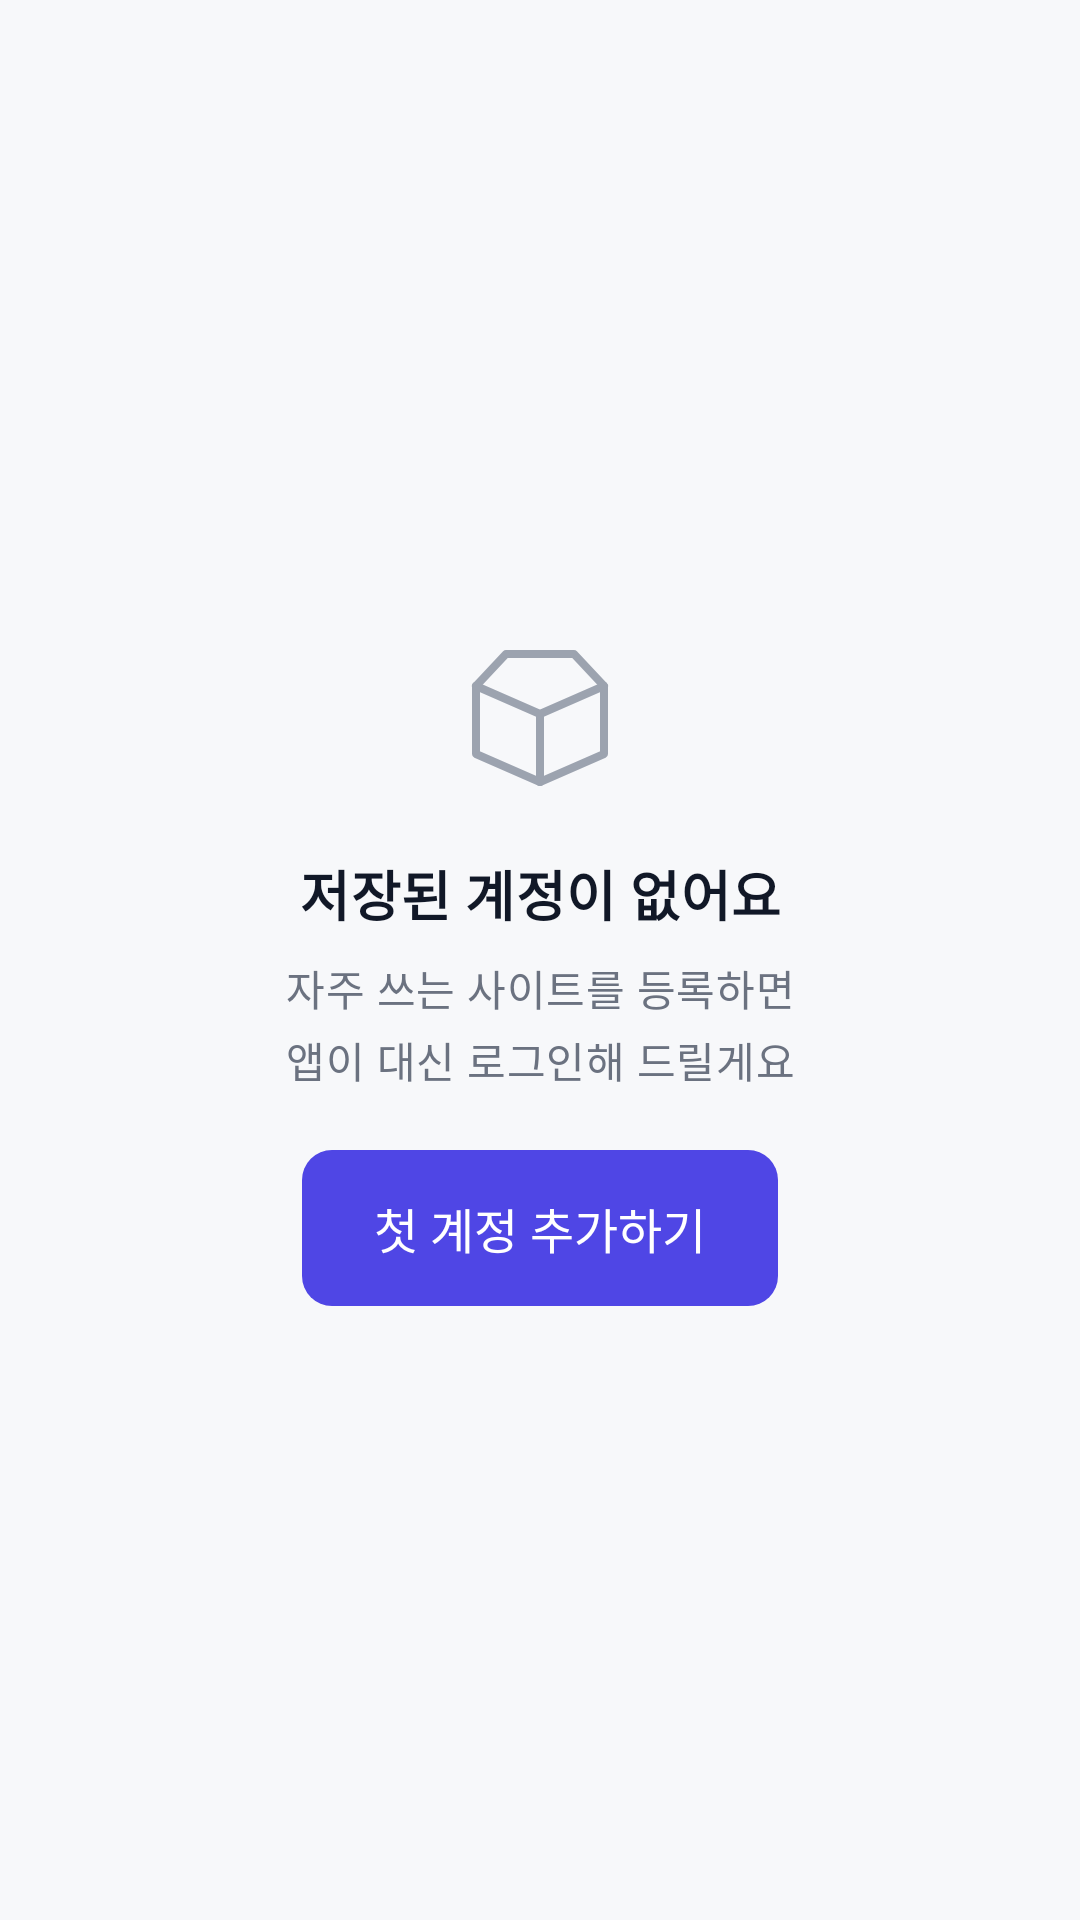

Where to tap for icons on this 1080 × 1920 app screen, as [x,y]:
빈 목록 안내 이미지: [540,718]
